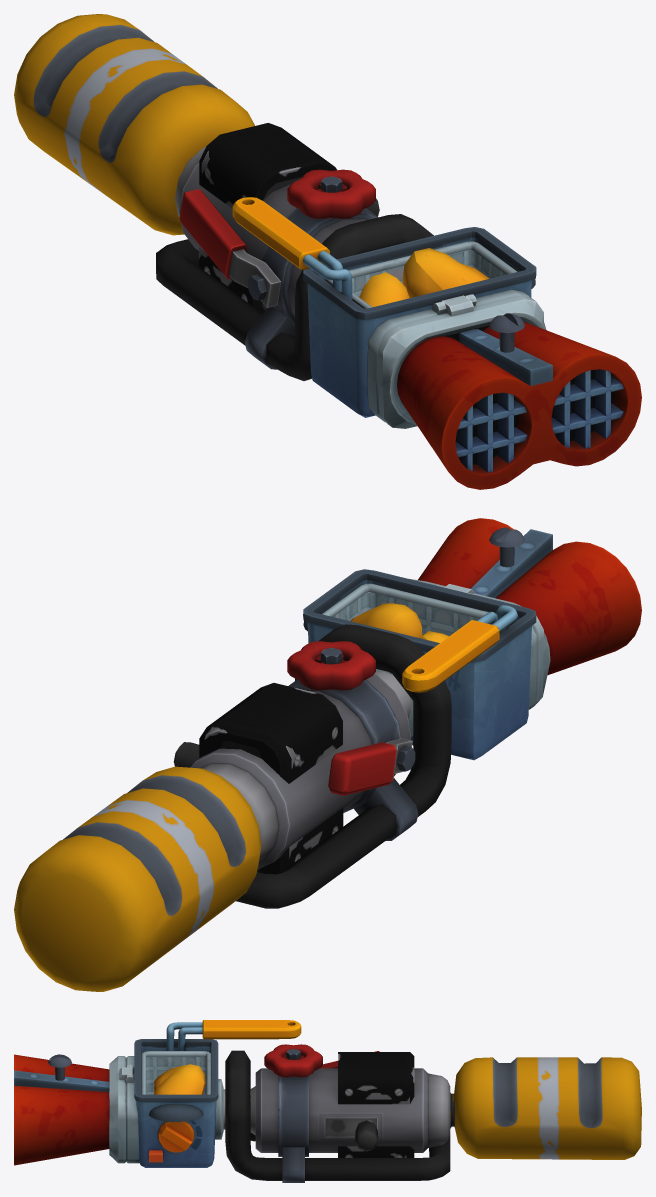
File: fant_mountableshotgun_2.obj
3 renders of one model, top to bottom at view 1: azimuth 30°, elevation 25°; view 2: azimuth 150°, elevation 25°; view 3: azimuth 270°, elevation 25°, orthographic. The views are drawn at different scales.
Parts seen in each view (by area): view 1: fant_mountable_shoutgun_Mesh; view 2: fant_mountable_shoutgun_Mesh; view 3: fant_mountable_shoutgun_Mesh.
Part boxes in pixels (x1,y1,x2,y2): fant_mountable_shoutgun_Mesh: (14,14,641,489); fant_mountable_shoutgun_Mesh: (14,518,641,991); fant_mountable_shoutgun_Mesh: (14,1020,641,1182).
Bounding box in the file's own units: 1.43 × 1.1 × 5.59.
